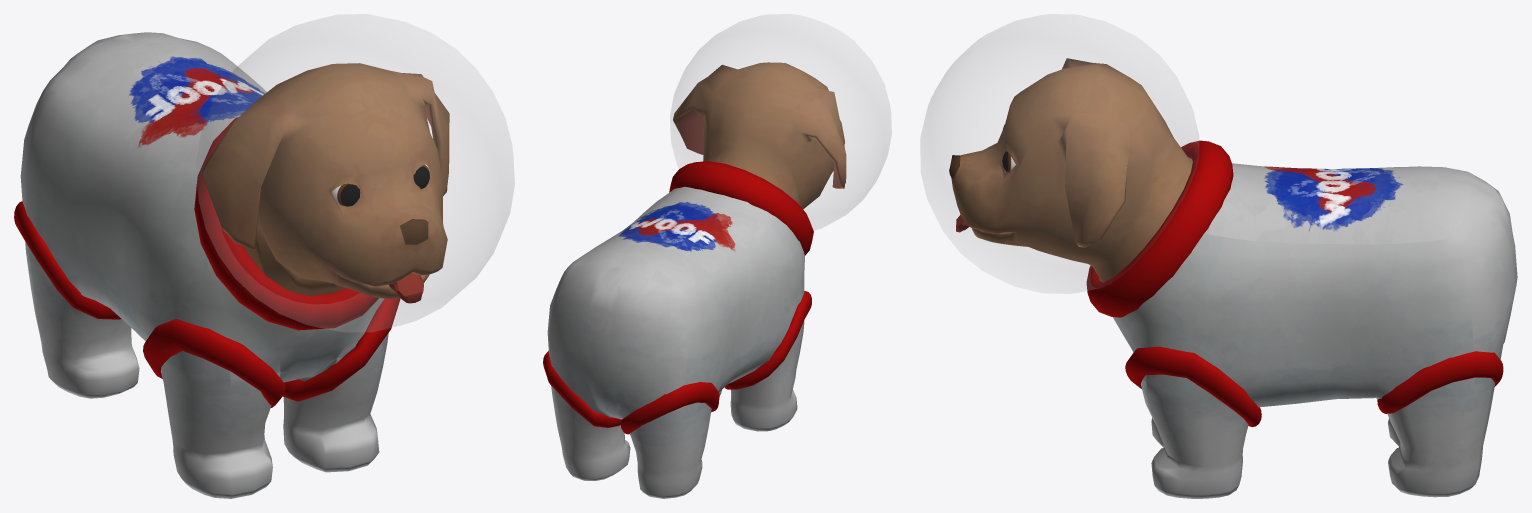
The model's file is lab_v1.fbx.
The picture shows the model from 3 angles, left to right: view 1: azimuth 30°, elevation 25°; view 2: azimuth 150°, elevation 25°; view 3: azimuth 270°, elevation 25°; orthographic projection. The views are drawn at different scales.
Parts seen in each view (by area): view 1: body1, helmet, band_front_l1, collar, tongue; view 2: body1, helmet, band_front_l1, collar; view 3: body1, helmet, collar, band_front_l1.
Part boxes in pixels (x1,y1,x2,y2): body1: (20, 32, 449, 498); helmet: (196, 14, 514, 332); band_front_l1: (14, 201, 400, 407); collar: (194, 117, 378, 330); tongue: (389, 273, 423, 303); body1: (547, 62, 846, 498); helmet: (670, 14, 891, 230); band_front_l1: (543, 291, 811, 434); collar: (669, 161, 813, 255); body1: (949, 58, 1517, 498); helmet: (920, 14, 1198, 293); collar: (1086, 140, 1233, 317); band_front_l1: (1125, 346, 1503, 426).
Bounding box in the file's own units: 12.11 × 20.82 × 25.88.
5 materials, 2 textured.
